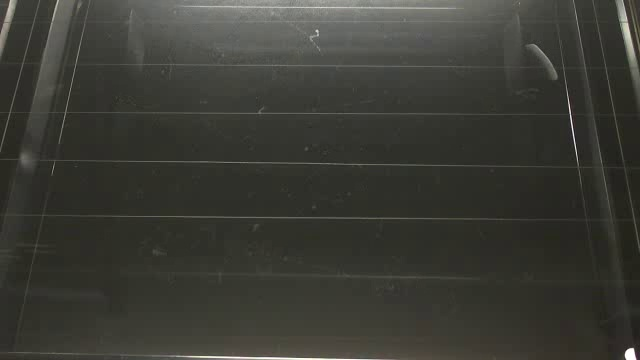Alfa: (523, 38, 560, 81)
